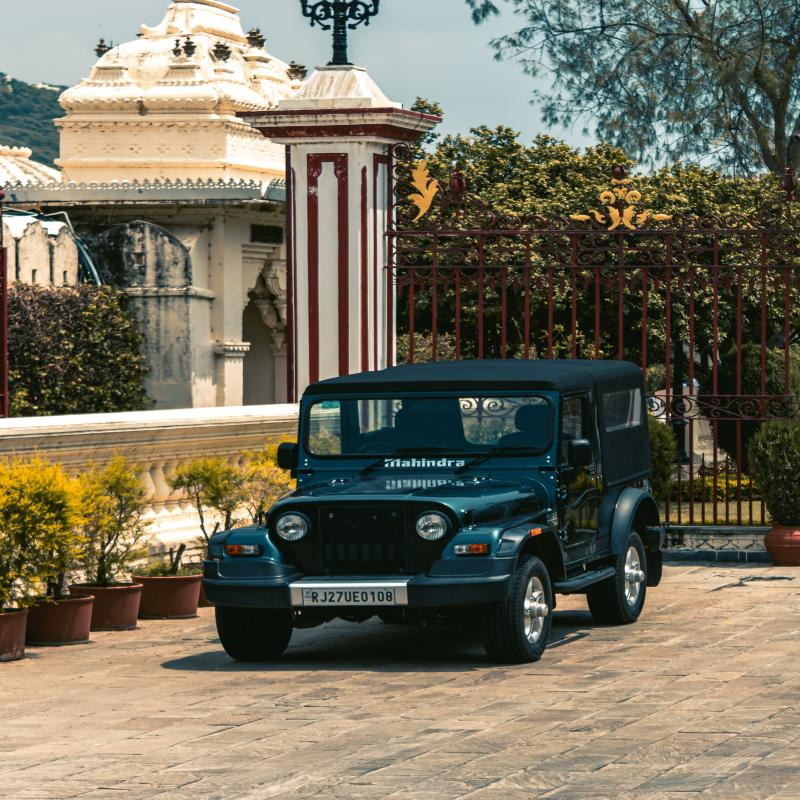car: (213, 342, 665, 651)
